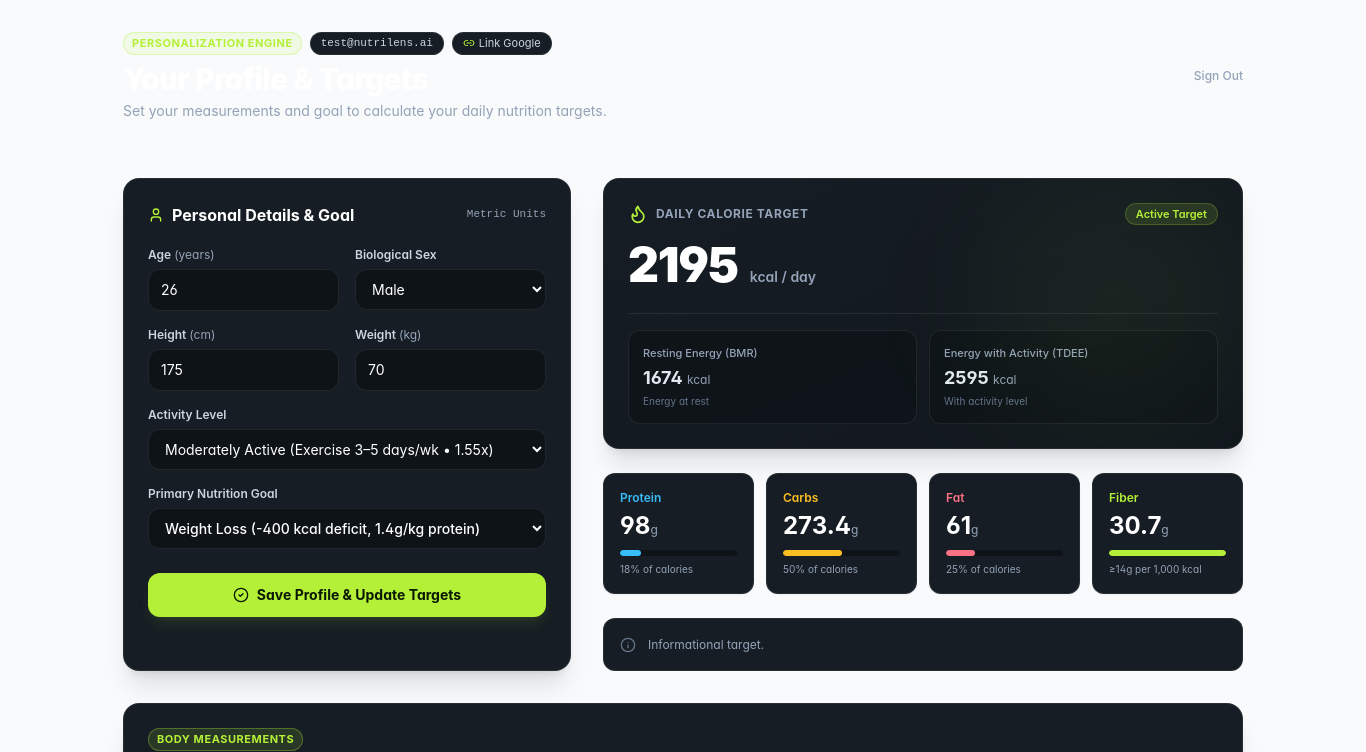
Test: Profile Component - Biometric Inputs & Target Calculations › 7. Successful saves preserve updated values and show confirmation
The width and height of the screenshot is (1366, 752).
Type "78" into the field labelled "Weight (kg)" at [450, 370], box [355,348,546,390]
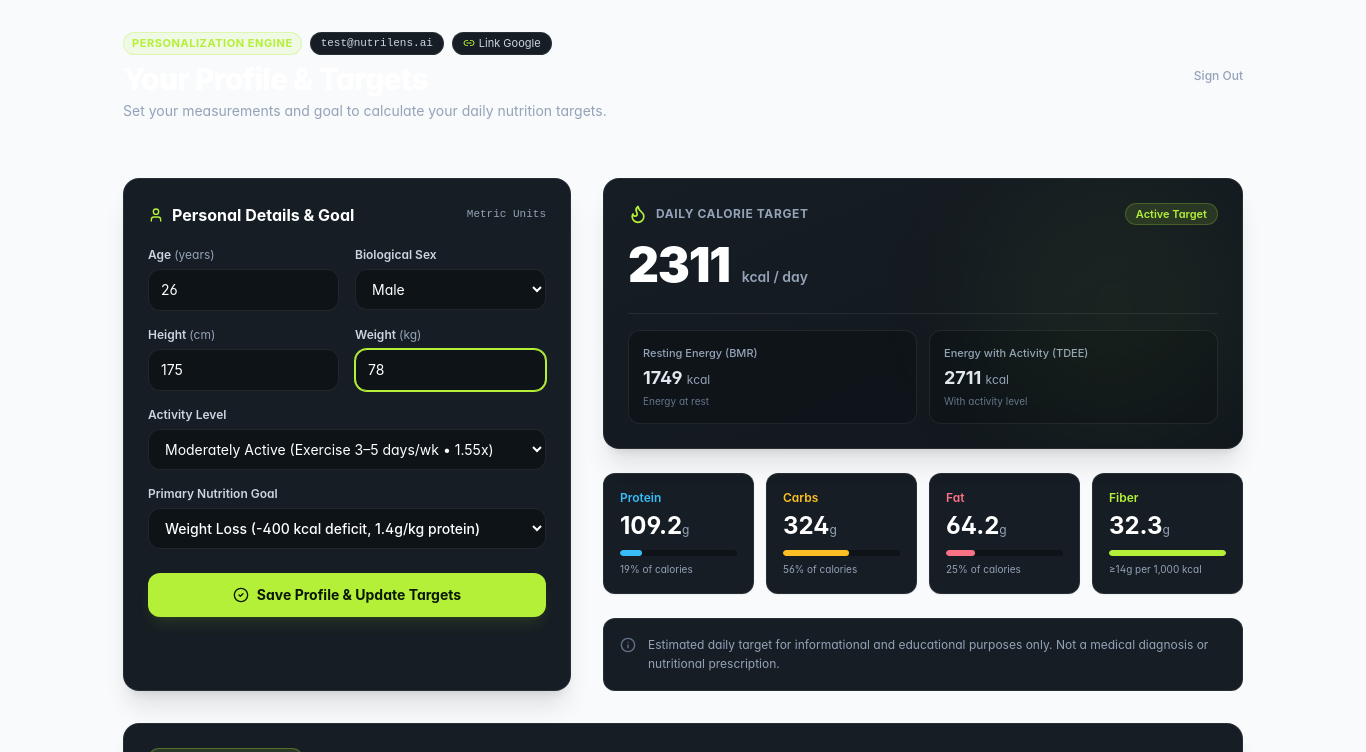
Click the button "Save Profile & Update Targets" at [347, 594], box [148,572,546,616]
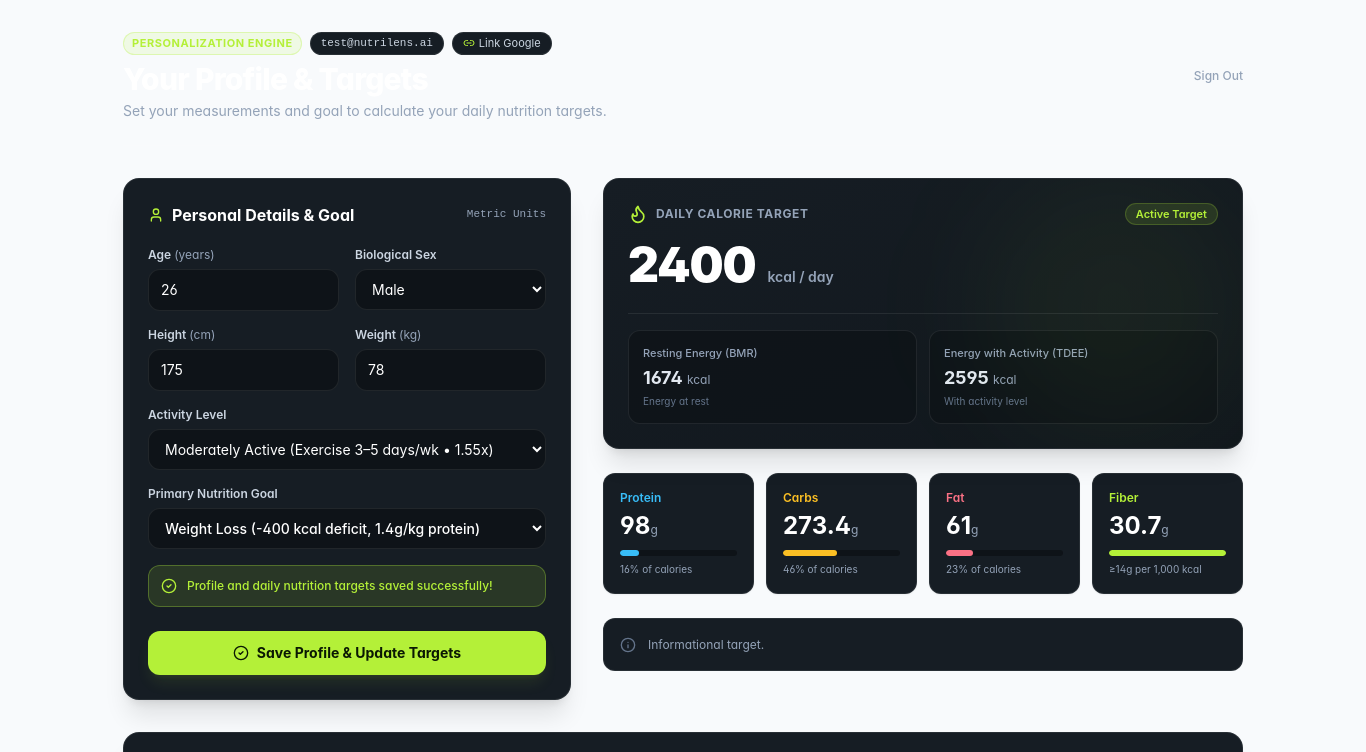
Check: the text "Profile and daily nutrition targets saved successfully!" is shown, box [187,578,493,594]
